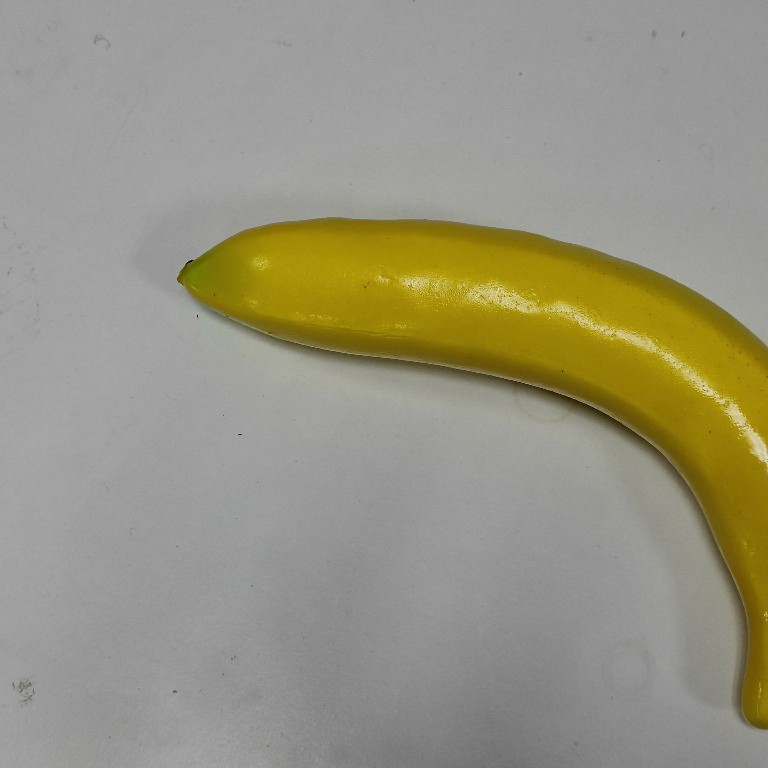fruit_banana: (165, 213, 768, 734)
